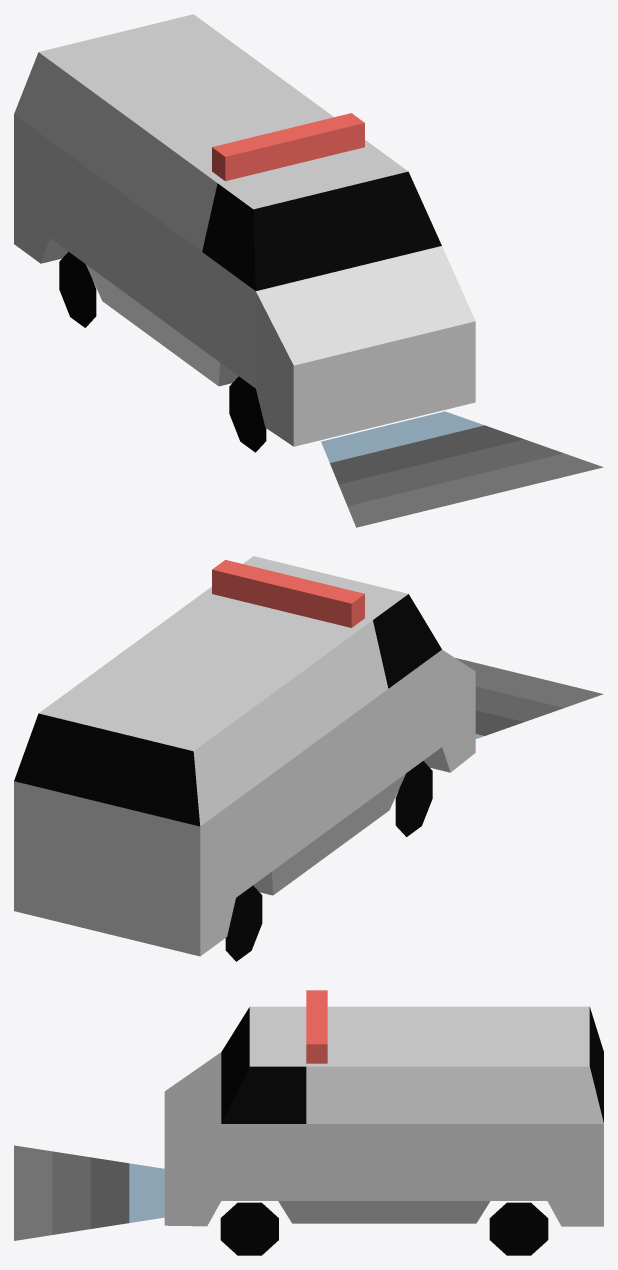
Rendered from CARAMBUL.glb.
The picture shows the model from 3 angles, top to bottom: view 1: azimuth 30°, elevation 25°; view 2: azimuth 150°, elevation 25°; view 3: azimuth 270°, elevation 25°; orthographic projection. The views are drawn at different scales.
Parts seen in each view (by area): view 1: CARAMBUL | archived geometry; view 2: CARAMBUL | archived geometry; view 3: CARAMBUL | archived geometry.
Boxes of the visible parts, x1,y1,x2,y2 form: CARAMBUL | archived geometry: [14, 14, 603, 527]; CARAMBUL | archived geometry: [14, 556, 603, 961]; CARAMBUL | archived geometry: [14, 990, 603, 1255].
Bounding box in the file's own units: 3.33 × 3.35 × 8.67.
